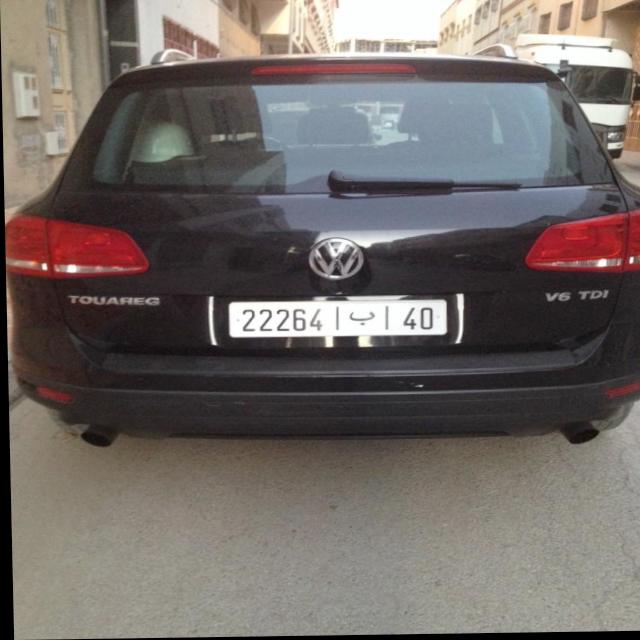License-Plate: (227, 301, 445, 339)
